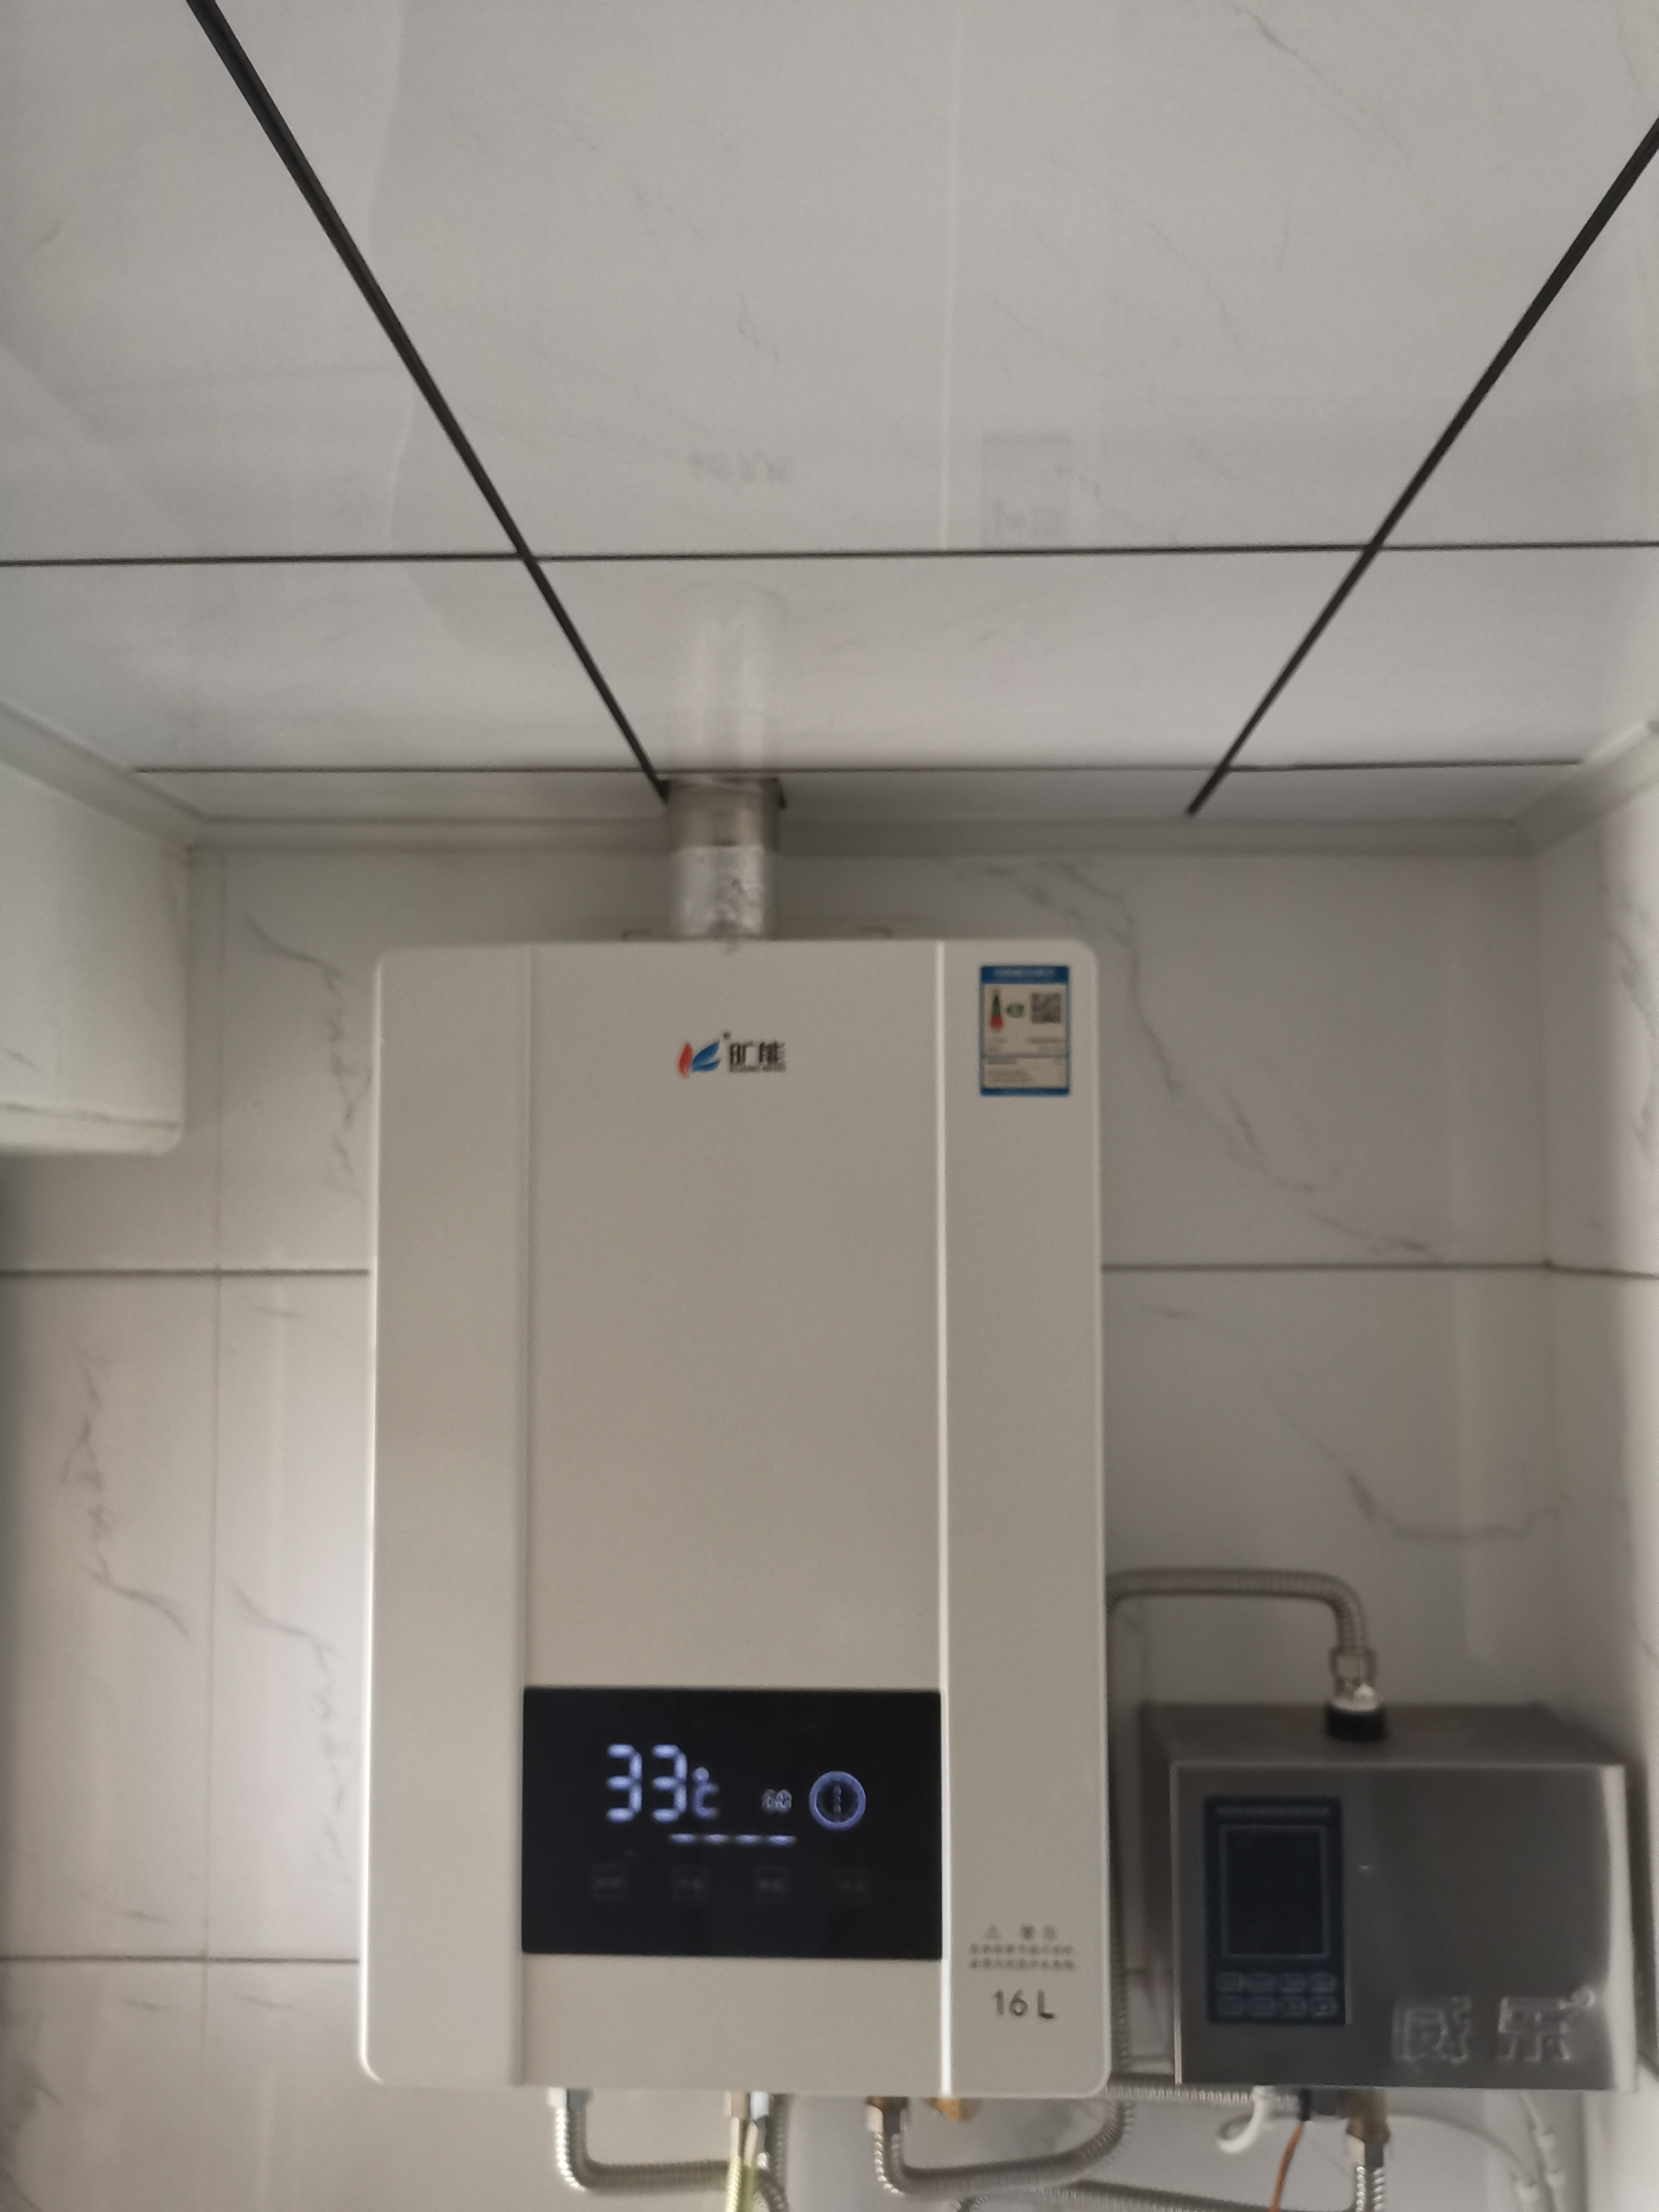loudou: (664, 1024, 805, 1089)
